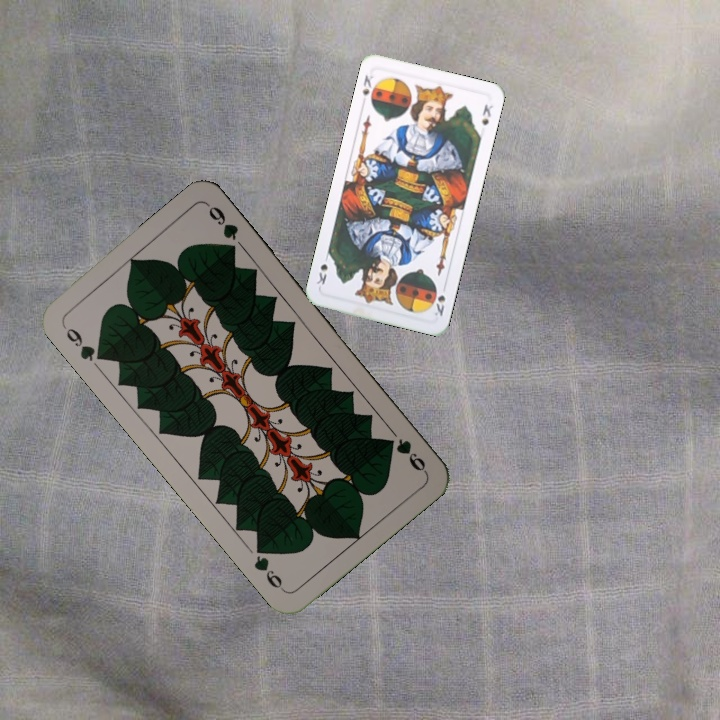G9: (58, 321, 109, 365), (391, 434, 429, 475)
SK: (430, 280, 449, 319), (358, 71, 376, 98)
